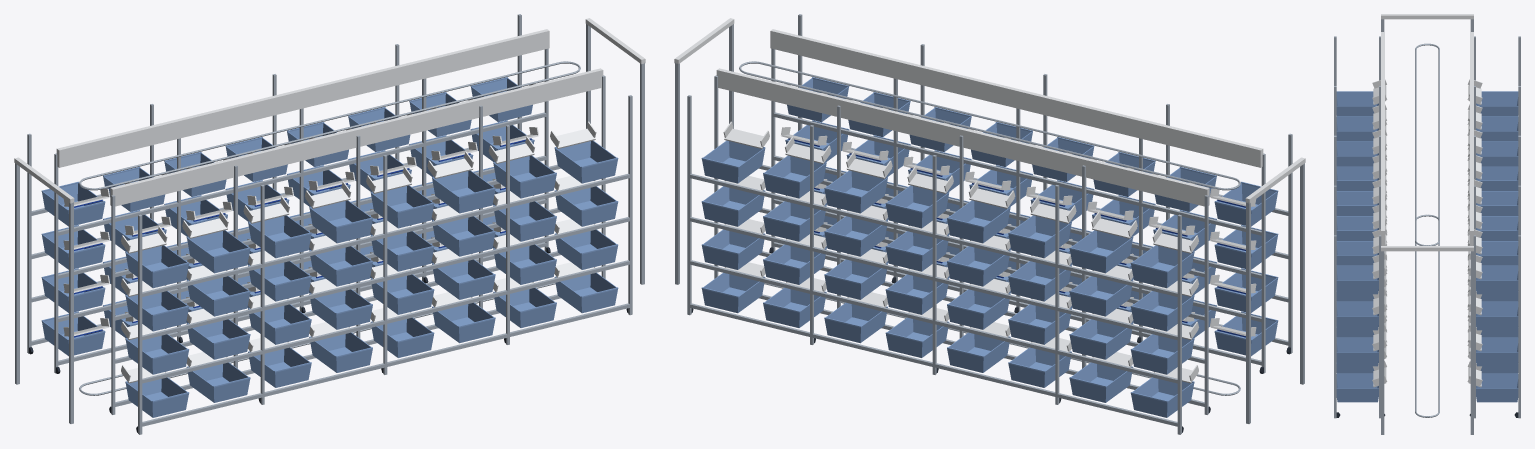
The model's file is SM_MPR_SorterSimBody64.fbx.
The picture shows the model from 3 angles, left to right: view 1: azimuth 30°, elevation 25°; view 2: azimuth 150°, elevation 25°; view 3: azimuth 270°, elevation 25°; orthographic projection. The views are drawn at different scales.
Parts seen in each view (by area): view 1: SM_MPR_SorterSimBody64; view 2: SM_MPR_SorterSimBody64; view 3: SM_MPR_SorterSimBody64.
Part boxes in pixels (x1,y1,x2,y2): SM_MPR_SorterSimBody64: [14, 14, 645, 434]; SM_MPR_SorterSimBody64: [674, 14, 1305, 434]; SM_MPR_SorterSimBody64: [1334, 14, 1520, 434].
Size of the model in its own units: 620 by 209 by 232.
